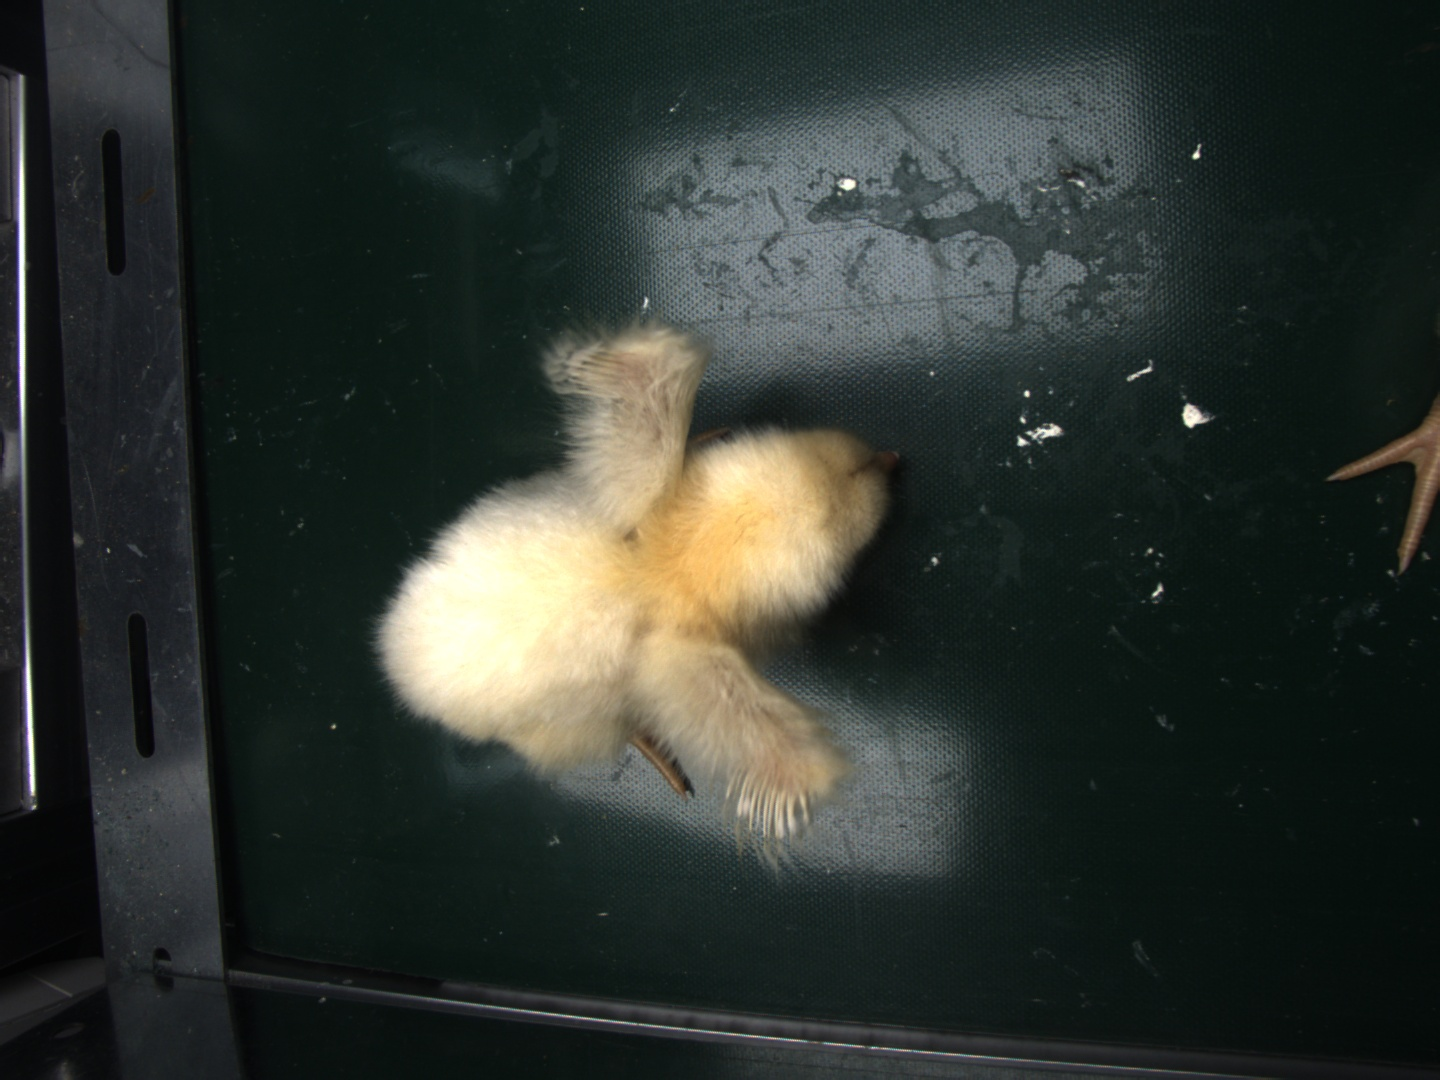male: (731, 769, 818, 843)
